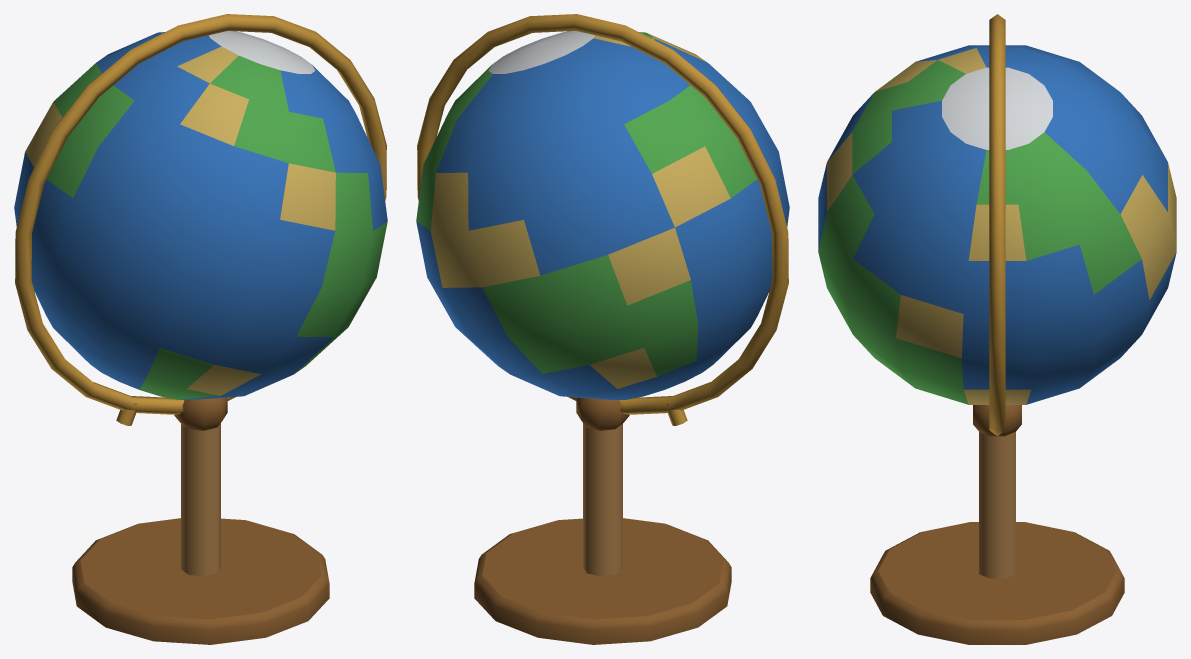
The model's file is school-prop2.glb.
3 renders of one model, left to right at view 1: azimuth 30°, elevation 25°; view 2: azimuth 150°, elevation 25°; view 3: azimuth 270°, elevation 25°, orthographic. The views are drawn at different scales.
Parts seen in each view (by area): view 1: school-prop2; view 2: school-prop2; view 3: school-prop2.
Boxes of the visible parts, bbox=[...] form: school-prop2: bbox=[14, 14, 387, 644]; school-prop2: bbox=[416, 14, 789, 644]; school-prop2: bbox=[818, 14, 1176, 644].
Size of the model in its own units: 1.06 by 1.55 by 0.9023.
